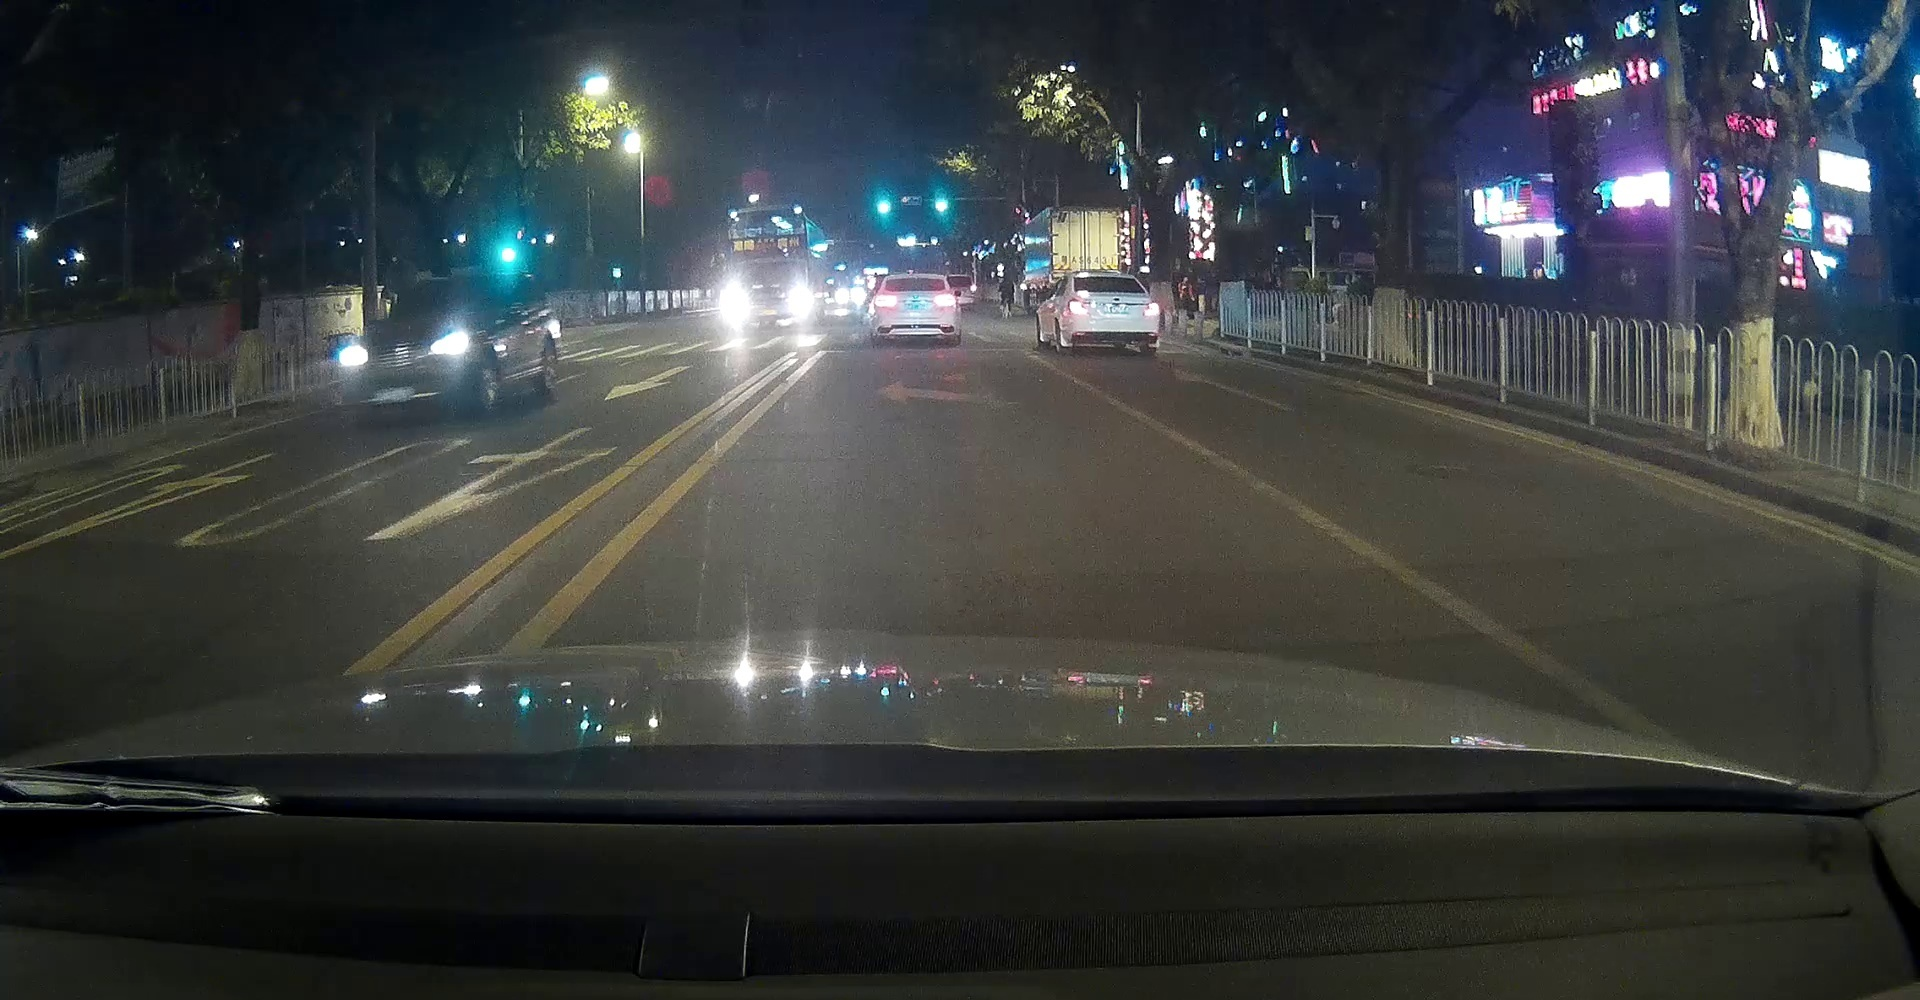L_light: (874, 294, 897, 306), (1069, 301, 1087, 313)
R_light: (1143, 302, 1161, 316), (935, 294, 956, 306)
T_light: (1103, 277, 1121, 280), (910, 278, 921, 280)
night-no: (1065, 270, 1161, 354), (869, 272, 960, 346)
